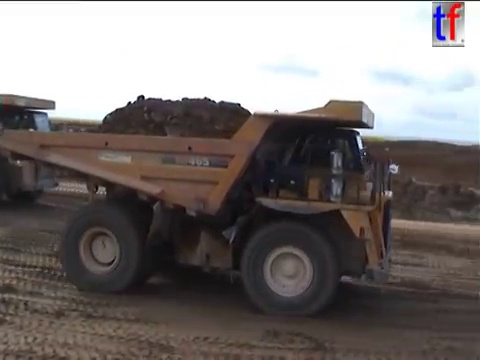truck: (1, 96, 402, 323), (1, 89, 63, 210)
